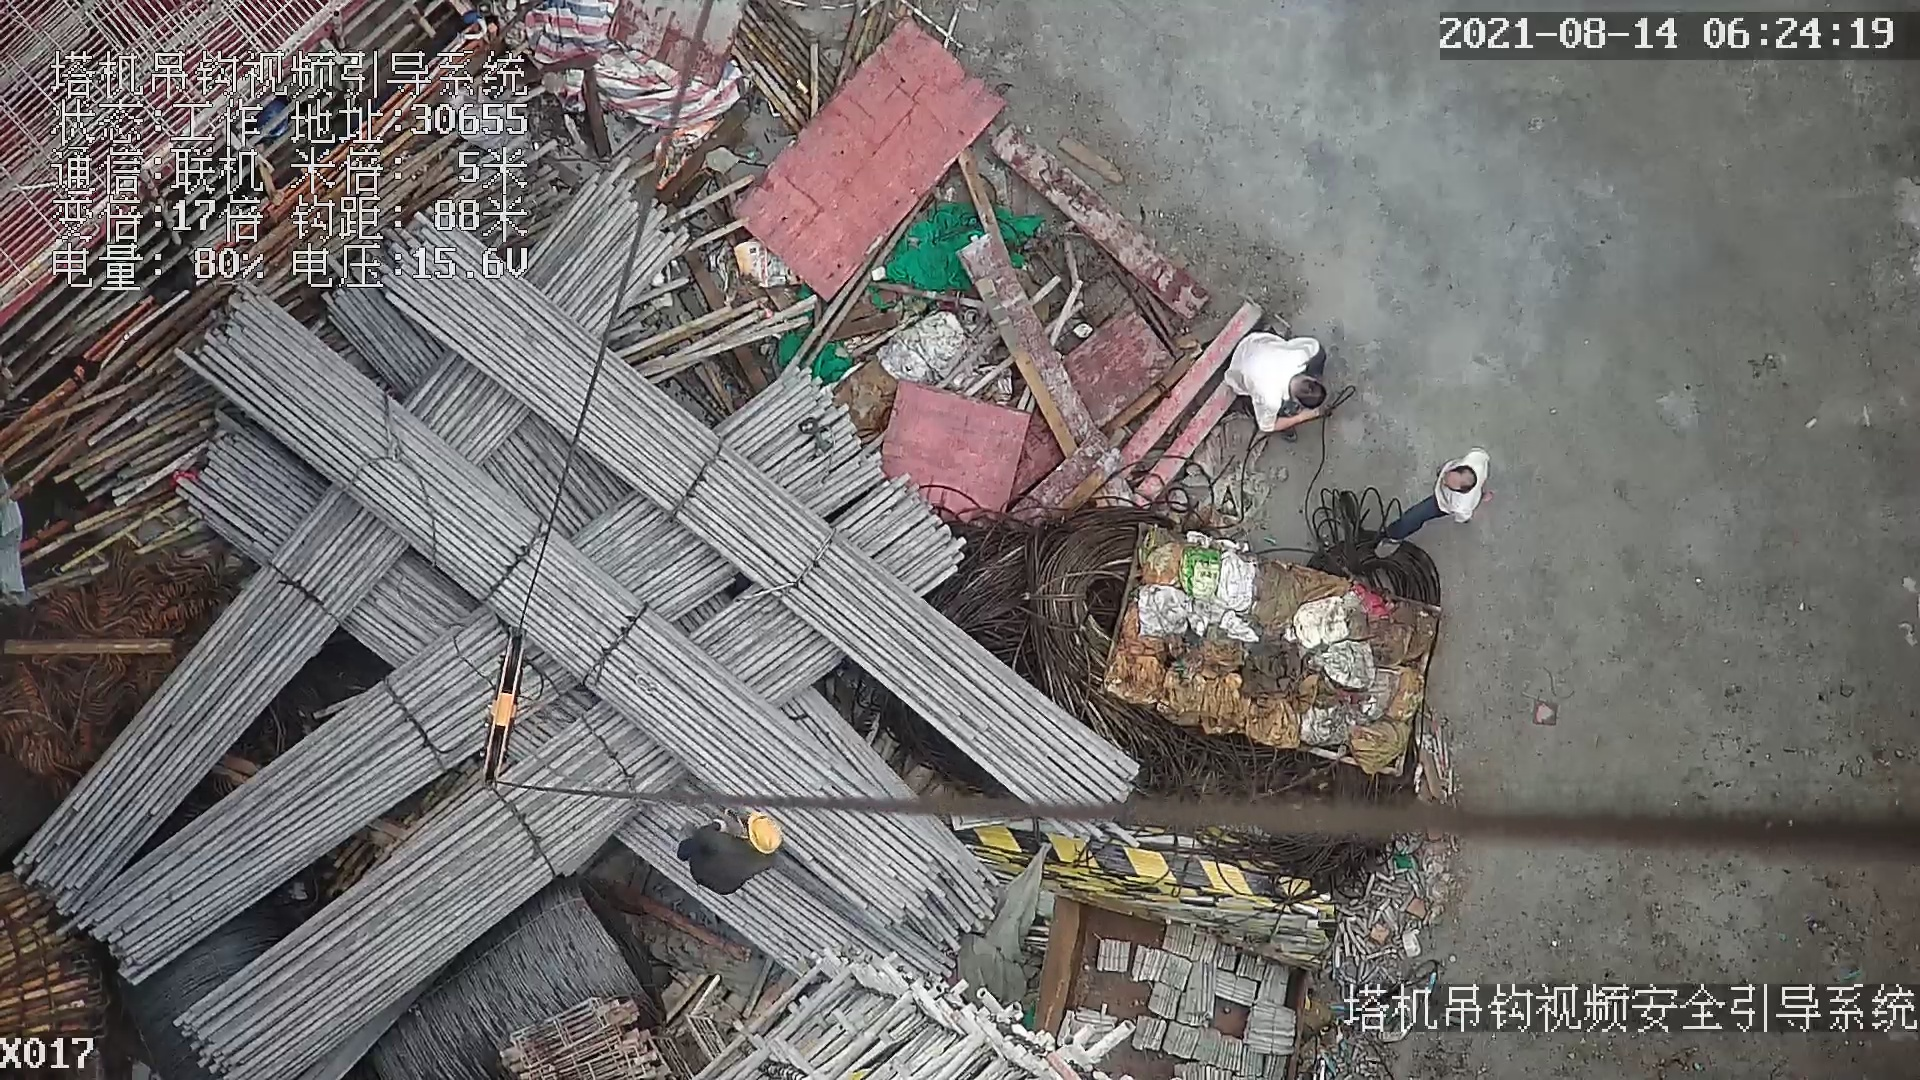helmet: (747, 810, 781, 855)
hook: (474, 622, 527, 789)
person: (1381, 445, 1496, 569), (1220, 331, 1341, 445), (660, 804, 794, 896)
rebar: (174, 288, 940, 907), (389, 280, 1142, 837), (169, 701, 689, 1080), (78, 610, 588, 980), (12, 476, 411, 923)
wood: (1, 869, 113, 1037)
